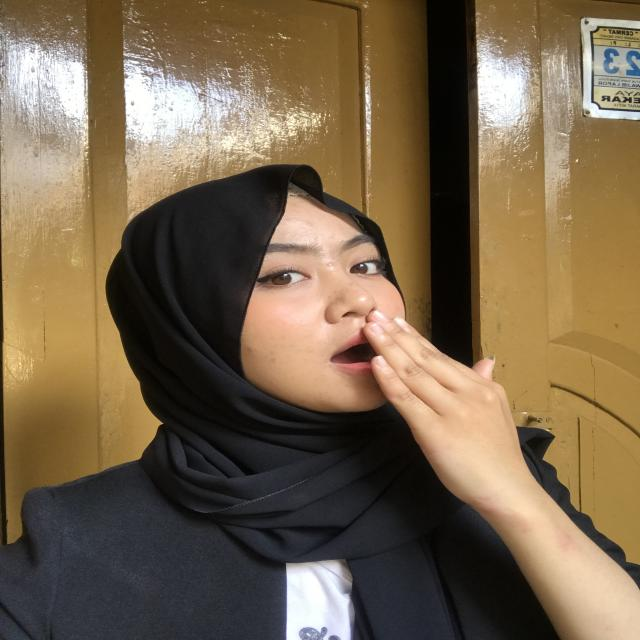ngantuk: (331, 302, 582, 517)
